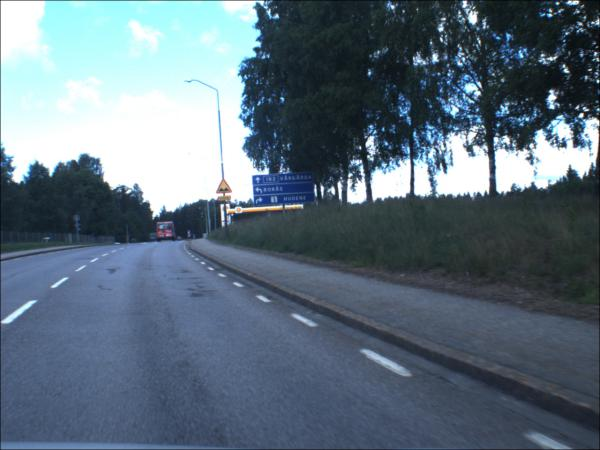WARNING: (218, 180, 234, 195)
